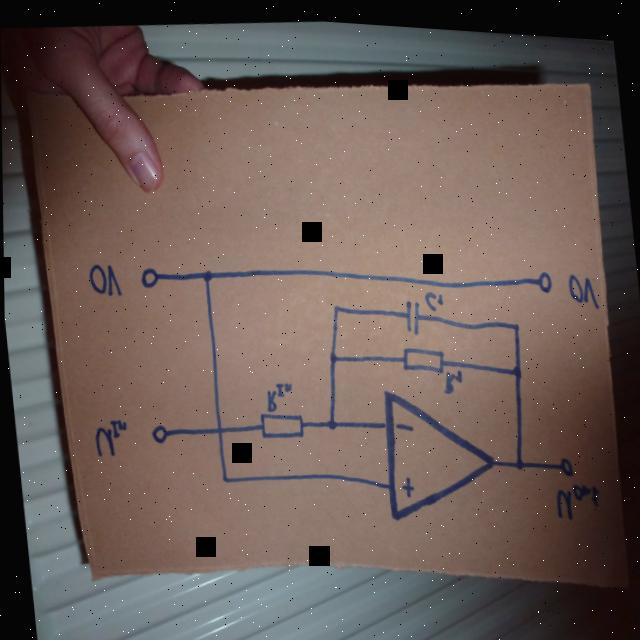capacitor: (401, 293, 422, 331)
crossover: (211, 420, 222, 435)
junction: (198, 264, 211, 281), (323, 412, 336, 428), (324, 345, 336, 362), (509, 356, 520, 374), (509, 451, 523, 465), (329, 296, 340, 312), (216, 469, 227, 482), (509, 314, 518, 326)
resistor: (255, 406, 303, 440), (399, 336, 443, 372)
terminal: (136, 263, 158, 288), (146, 421, 167, 443), (534, 261, 551, 287), (555, 448, 572, 471)
text: (551, 471, 598, 516), (89, 414, 128, 458), (84, 259, 120, 298), (564, 264, 597, 304), (261, 375, 293, 410), (439, 361, 463, 390), (421, 283, 443, 309)
